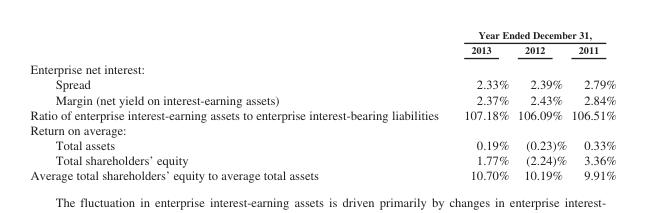table: (29, 28, 615, 182)
table column: (29, 28, 450, 182), (450, 28, 512, 182), (512, 28, 568, 182), (568, 28, 615, 182)
table column header: (29, 28, 615, 58)
table projected row header: (29, 58, 615, 76), (29, 122, 615, 137)
table row: (29, 58, 615, 76), (29, 41, 615, 58), (29, 106, 615, 122), (29, 76, 615, 91), (29, 91, 615, 106), (29, 122, 615, 137), (29, 137, 615, 152), (29, 152, 615, 167), (29, 167, 615, 182), (29, 28, 615, 41)
table spanning cell: (450, 28, 615, 41)
